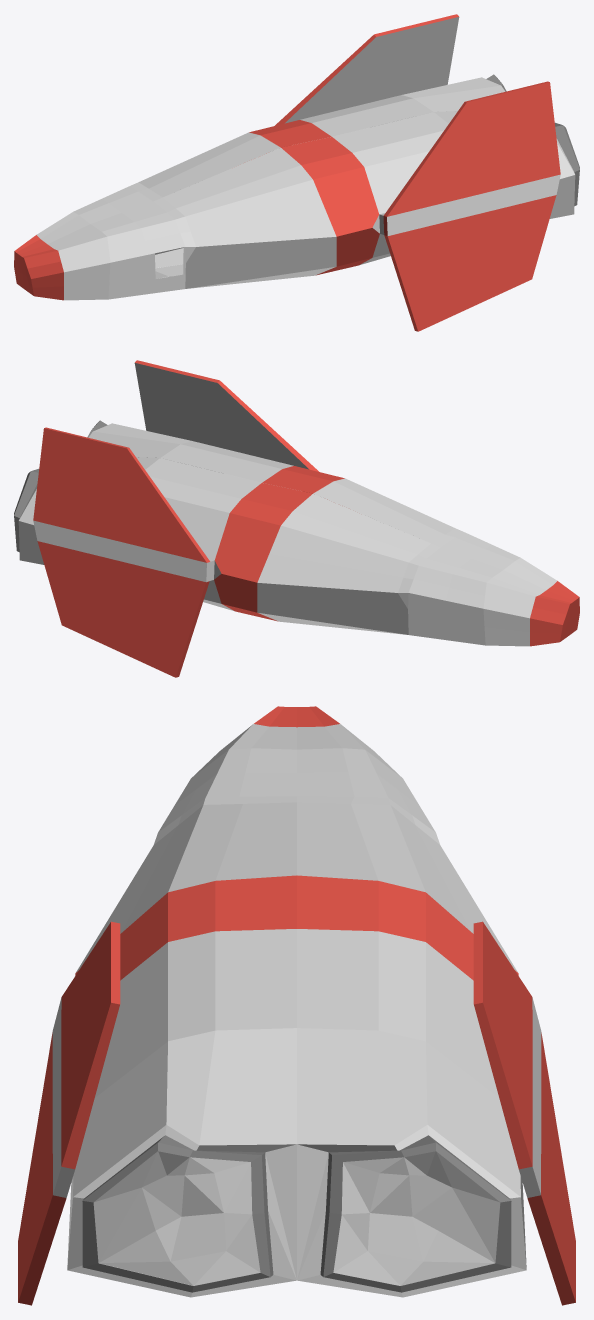
The model's file is CHAIR_repair.fbx.
3 views of the same model, one above another, from view 1: azimuth 30°, elevation 25°; view 2: azimuth 150°, elevation 25°; view 3: azimuth 270°, elevation 25° (orthographic). The views are drawn at different scales.
Visible parts, largest first — view 1: spaceShipOutside; view 2: spaceShipOutside; view 3: spaceShipOutside.
Part boxes in pixels (left/top/right/bottom): spaceShipOutside: left=14, top=14, right=579, bottom=331; spaceShipOutside: left=14, top=360, right=579, bottom=677; spaceShipOutside: left=18, top=706, right=575, bottom=1305.
Size of the model in its own units: 34888 by 12633 by 16276.
